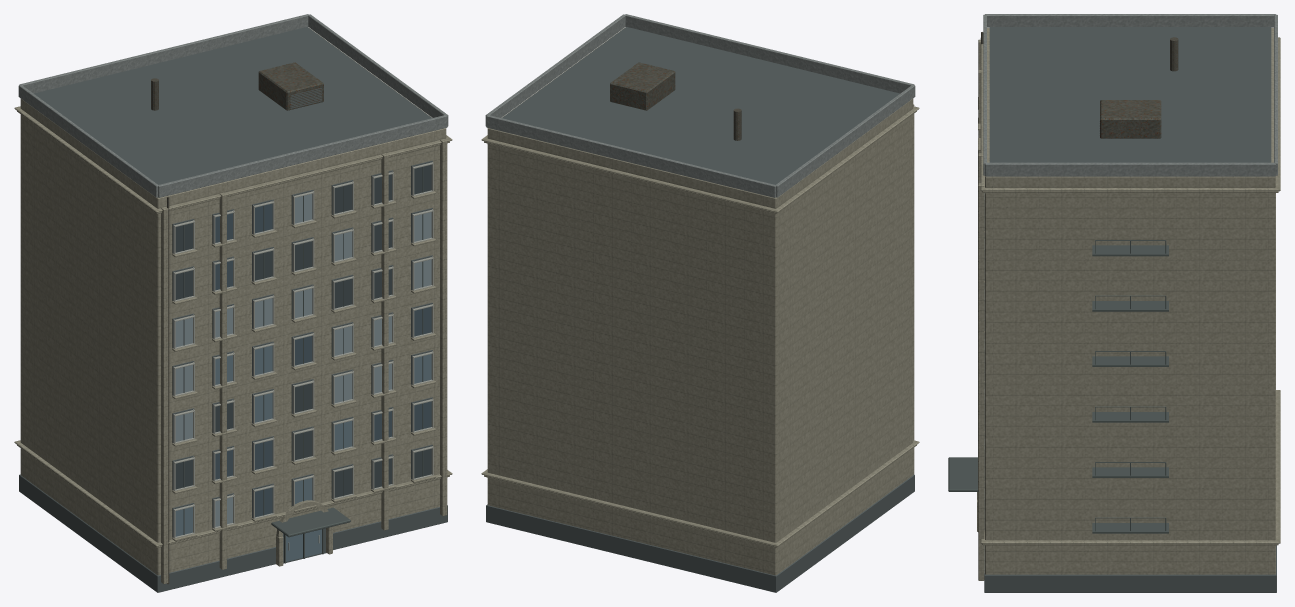
The model's file is limestone.glb.
3 renders of one model, left to right at view 1: azimuth 30°, elevation 25°; view 2: azimuth 150°, elevation 25°; view 3: azimuth 270°, elevation 25°, orthographic. The views are drawn at different scales.
Visible parts, largest first — view 1: limestone / Weathered limestone, limestone / Recess shadow and roofing, limestone / Aged concrete, limestone / Muted stone trim, limestone / Glass 3, limestone / Glass 2, limestone / Glass 0, limestone / Glass 1, limestone / Weathered industrial steel, limestone / Ironwork; view 2: limestone / Weathered limestone, limestone / Recess shadow and roofing, limestone / Aged concrete, limestone / Weathered industrial steel; view 3: limestone / Weathered limestone, limestone / Recess shadow and roofing, limestone / Aged concrete, limestone / Ironwork, limestone / Weathered industrial steel.
Boxes of the visible parts, left/top/right/bottom form: limestone / Weathered limestone: left=14, top=27, right=452, bottom=584; limestone / Recess shadow and roofing: left=19, top=27, right=447, bottom=592; limestone / Aged concrete: left=18, top=14, right=448, bottom=197; limestone / Muted stone trim: left=173, top=162, right=433, bottom=550; limestone / Glass 3: left=175, top=164, right=431, bottom=497; limestone / Glass 2: left=175, top=194, right=431, bottom=526; limestone / Glass 0: left=215, top=203, right=431, bottom=517; limestone / Glass 1: left=175, top=345, right=431, bottom=561; limestone / Weathered industrial steel: left=151, top=62, right=323, bottom=584; limestone / Ironwork: left=183, top=167, right=423, bottom=563; limestone / Weathered limestone: left=481, top=27, right=919, bottom=575; limestone / Recess shadow and roofing: left=486, top=27, right=914, bottom=592; limestone / Aged concrete: left=485, top=14, right=915, bottom=197; limestone / Weathered industrial steel: left=610, top=62, right=741, bottom=140; limestone / Weathered limestone: left=977, top=28, right=1280, bottom=580; limestone / Recess shadow and roofing: left=984, top=27, right=1276, bottom=592; limestone / Aged concrete: left=983, top=14, right=1277, bottom=176; limestone / Ironwork: left=948, top=240, right=1168, bottom=533; limestone / Weathered industrial steel: left=981, top=32, right=1178, bottom=138.
Bounding box in the file's own units: 24.75 × 32.45 × 21.7.
Materials: 10 (3 with a texture image).
